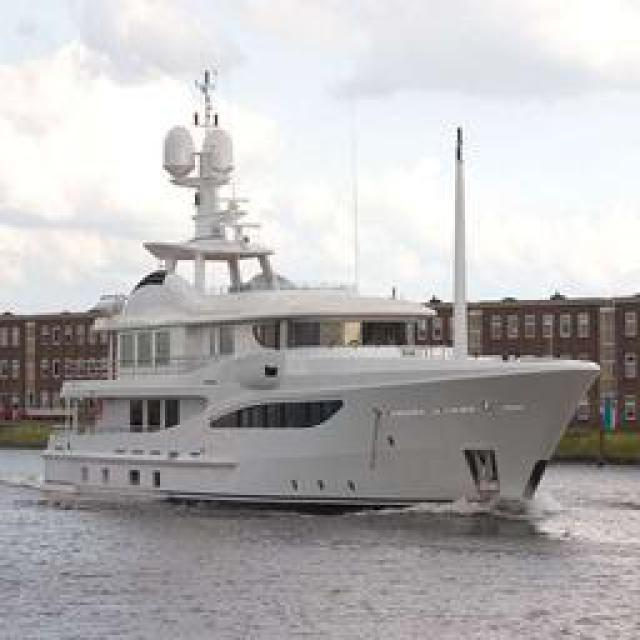Ship: (31, 240, 601, 518)
